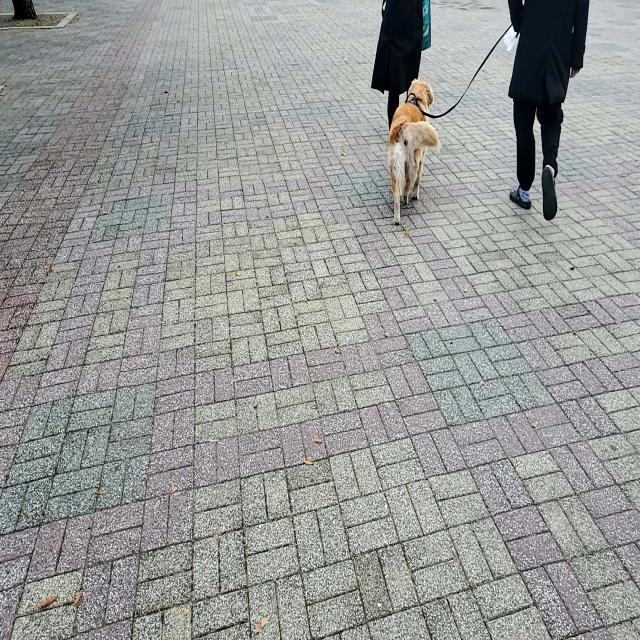Leashed_Dog: (389, 0, 533, 226)
